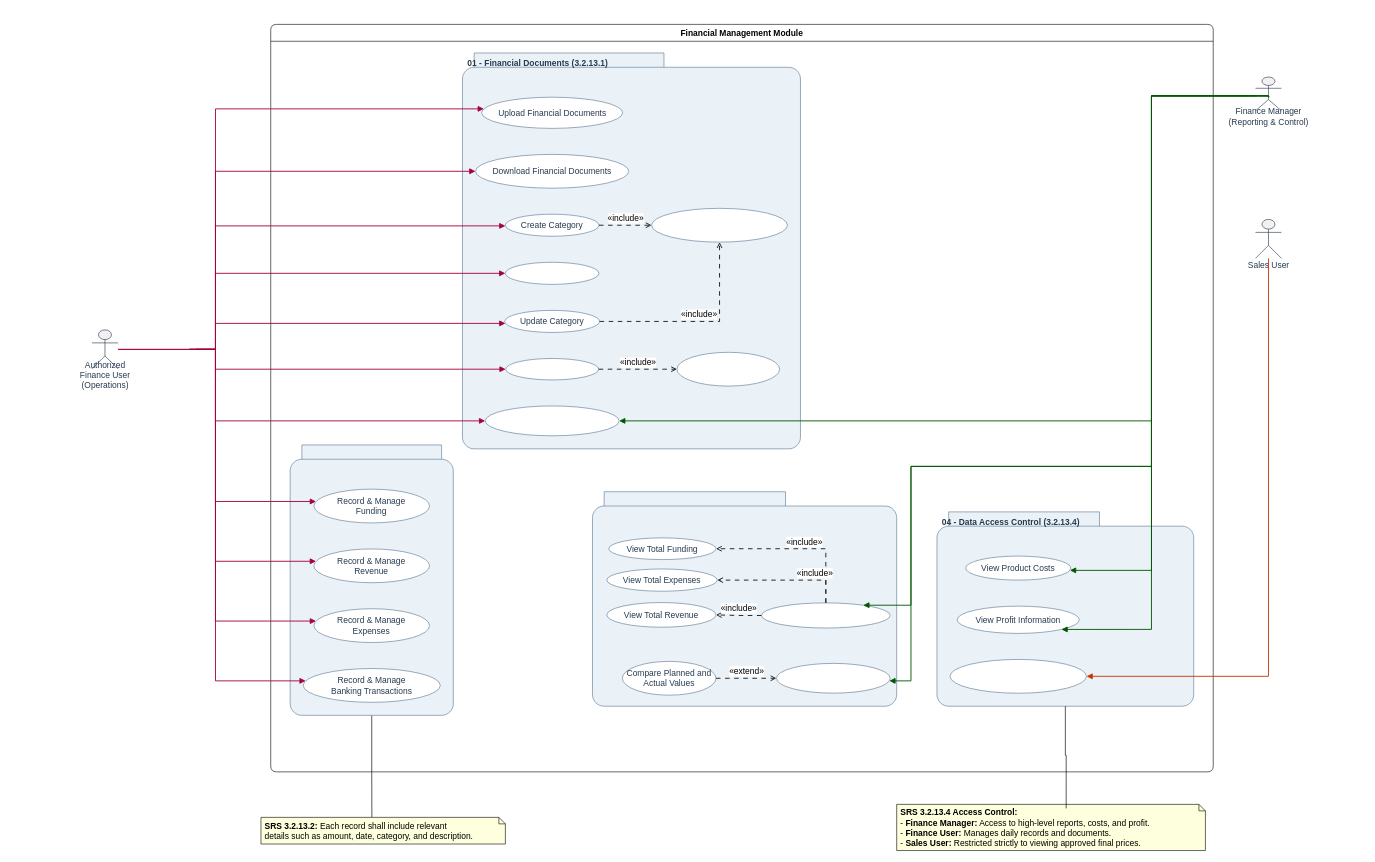
Image size: 1375x862. Some labels were removed from this diagram. The box of each missing label's shape, as (x1, y1, x2, y2) in pixels:
02 - Financial Records (3.2.13.2): (290, 444, 453, 715)
03 - Budget & Reporting (3.2.13.3): (592, 491, 897, 706)
Check Duplication of Category Name: (651, 208, 787, 242)
Delete Category: (505, 358, 599, 380)
Review Uploaded Budget Reports: (776, 663, 890, 693)
Verify Category Is Empty: (676, 352, 780, 386)
View Approved Final Selling Prices: (949, 659, 1086, 693)
View Categories: (505, 262, 599, 284)
View Financial Documents: (485, 405, 619, 436)
View Financial Summary: (761, 602, 890, 628)
